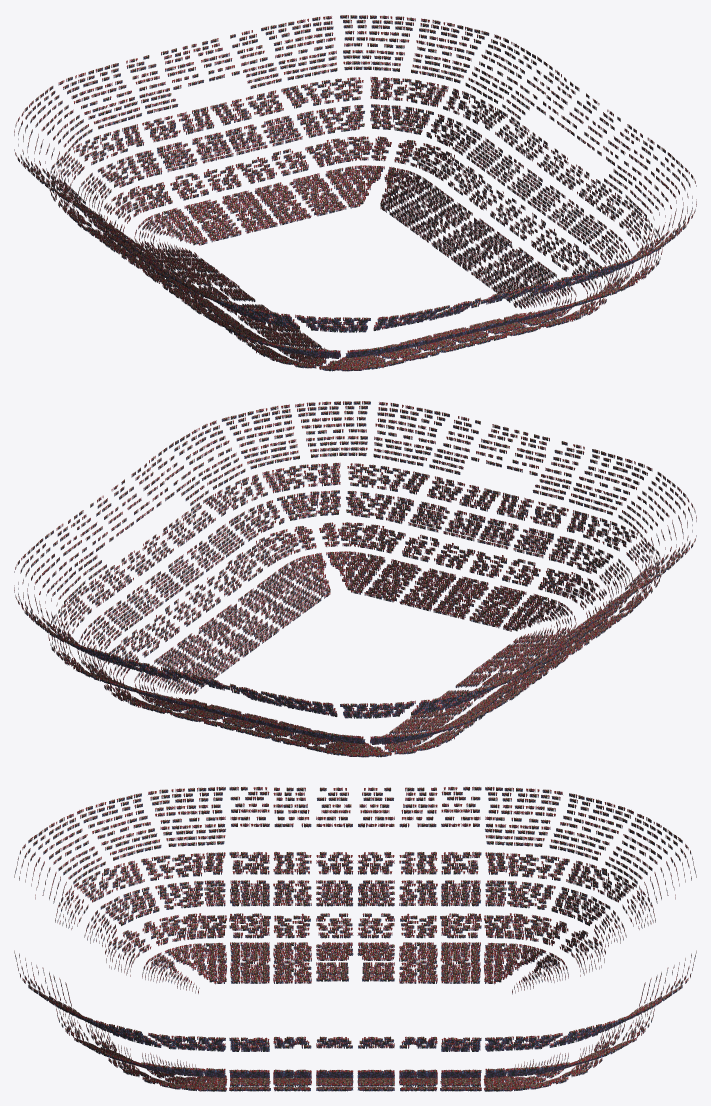
Rendered from st_070_people.fbx.
3 views of the same model, one above another, from view 1: azimuth 30°, elevation 25°; view 2: azimuth 150°, elevation 25°; view 3: azimuth 270°, elevation 25° (orthographic). The views are drawn at different scales.
Parts seen in each view (by area): view 1: st_070_People; view 2: st_070_People; view 3: st_070_People.
Part boxes in pixels (left/top/right/bottom): st_070_People: left=14, top=15, right=696, bottom=371; st_070_People: left=14, top=401, right=696, bottom=757; st_070_People: left=14, top=786, right=696, bottom=1091.
Bounding box in the file's own units: 245 × 54.68 × 282.
